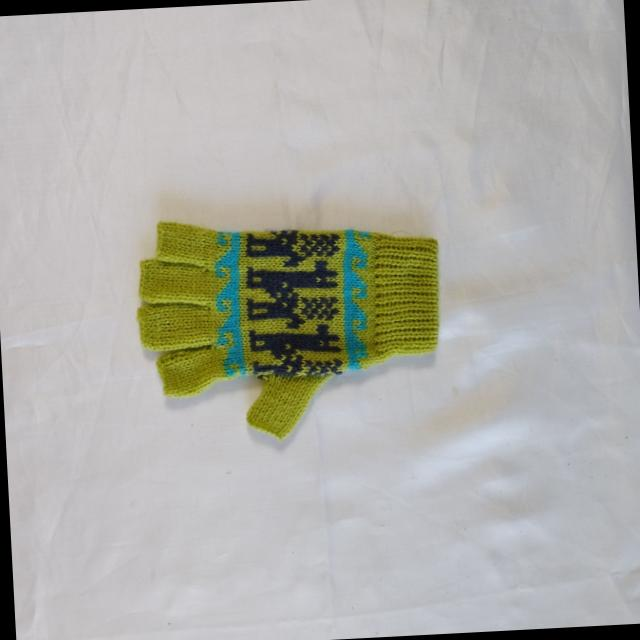Guante: (132, 206, 449, 448)
